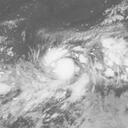cyclone: (34, 42, 93, 98)
